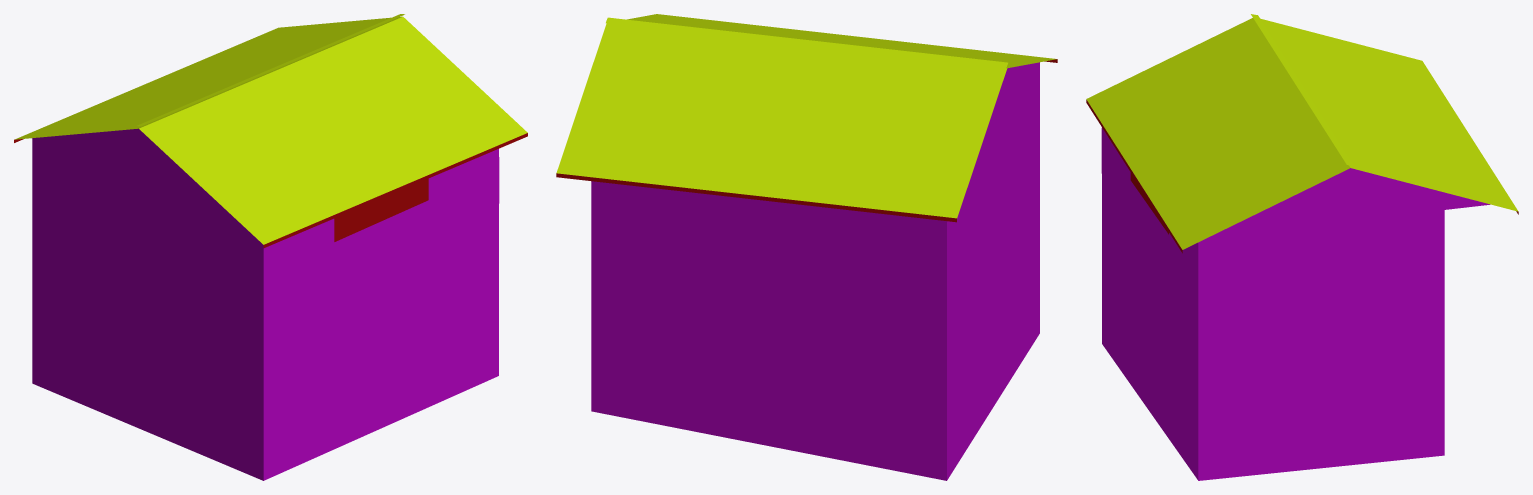
3 renders of one model, left to right at view 1: azimuth 30°, elevation 25°; view 2: azimuth 150°, elevation 25°; view 3: azimuth 270°, elevation 25°, orthographic. The views are drawn at different scales.
Visible parts, largest first — view 1: sc_99; view 2: sc_99; view 3: sc_99.
Part boxes in pixels (x1,y1,x2,y2): sc_99: [14, 14, 527, 480]; sc_99: [556, 14, 1057, 480]; sc_99: [1086, 14, 1518, 480].
Size of the model in its own units: 13.94 by 10.55 by 13.46.
